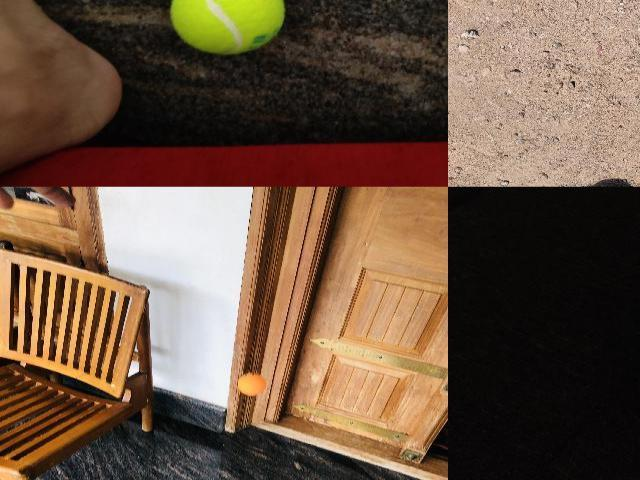tennis-ball: (169, 0, 287, 56)
